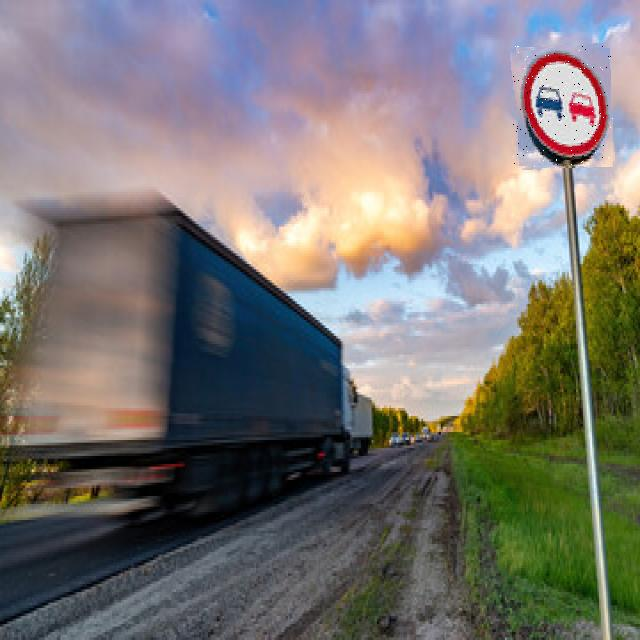no overtaking: (513, 45, 613, 168)
